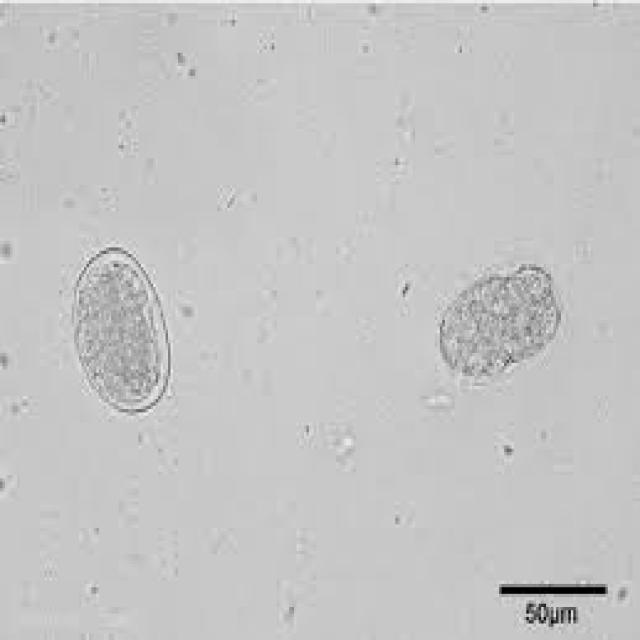Ancylostoma Spp: (66, 236, 179, 427), (432, 258, 568, 390)
